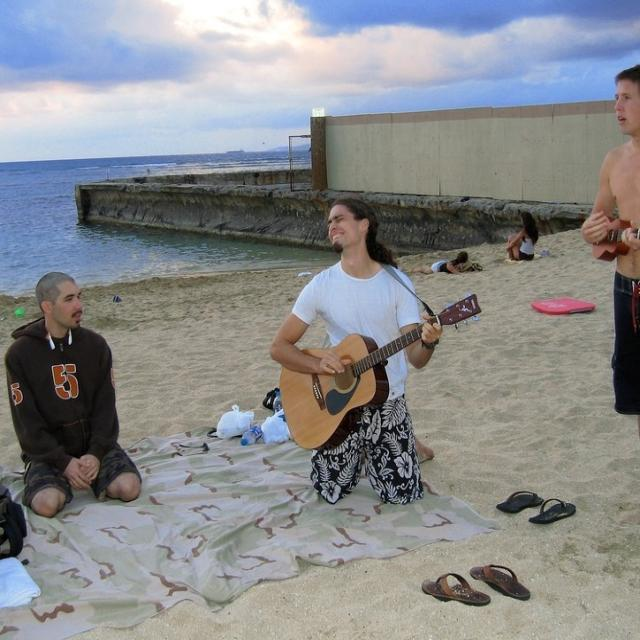guitar: (279, 292, 484, 453)
